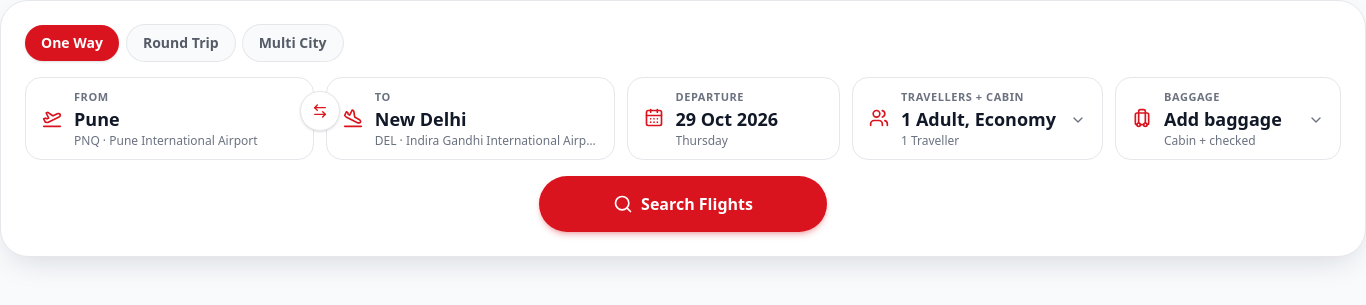
Scenario: SearchWidget — flights › shows validation errors instead of searching
This screenshot has width=1366, height=305.
Type "pnq" into the dropdown labelled "To" at (486, 119), box [375, 105, 598, 133]
Then press Enter
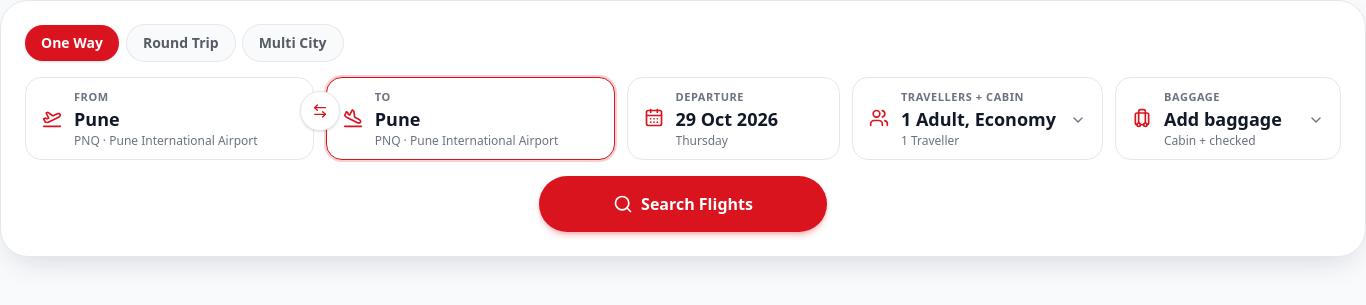
Click the button "Search Flights" at (683, 204), box [539, 176, 827, 232]
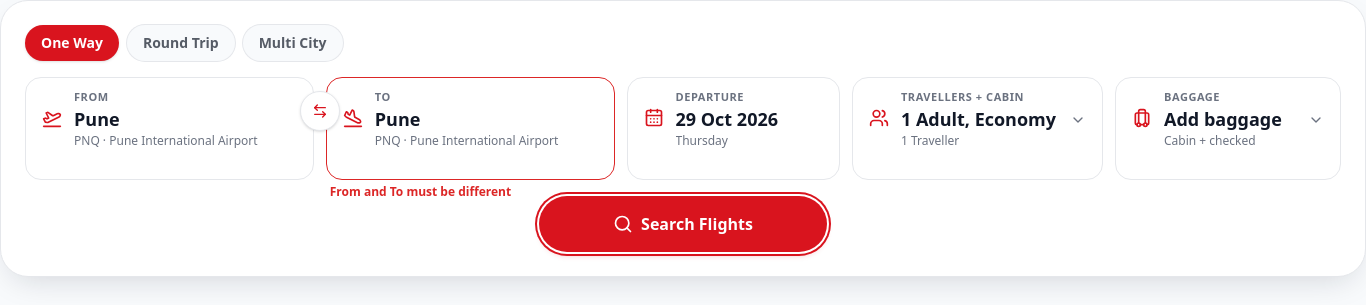
Check: the text "From and To must be different" is shown, box [330, 183, 511, 200]
